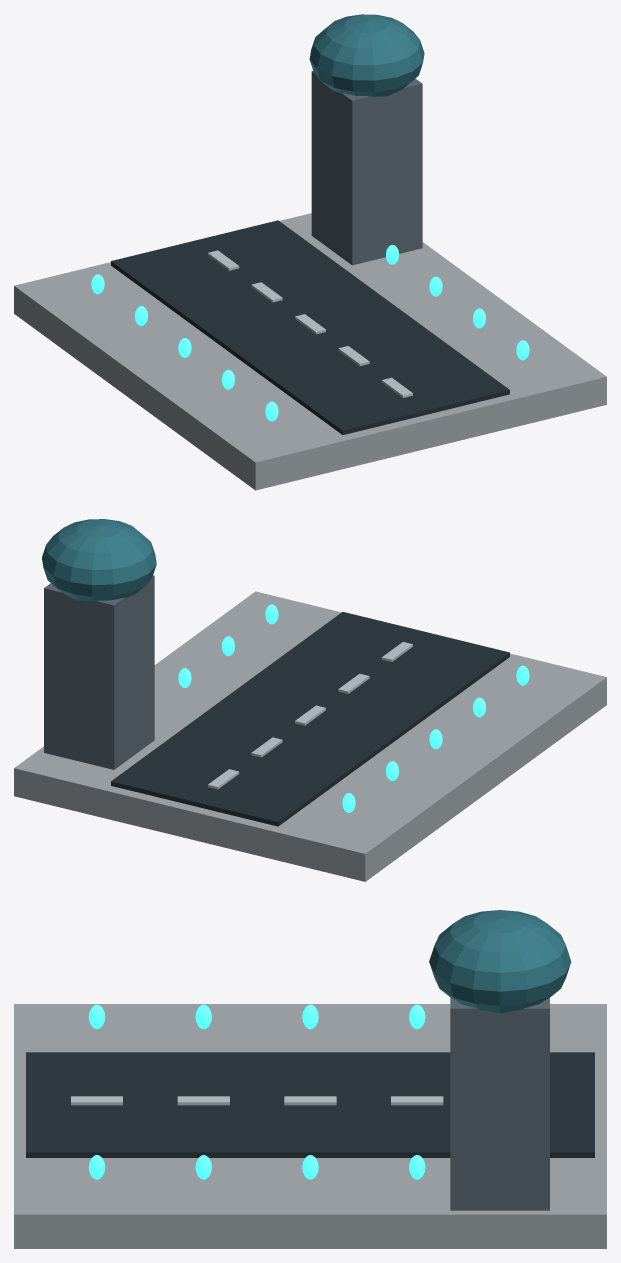
File: airfield.glb
3 renders of one model, top to bottom at view 1: azimuth 30°, elevation 25°; view 2: azimuth 150°, elevation 25°; view 3: azimuth 270°, elevation 25°, orthographic. The views are drawn at different scales.
Parts seen in each view (by area): view 1: runway foundation, runway surface, air control tower, control radar; view 2: runway foundation, runway surface, air control tower, control radar; view 3: runway foundation, runway surface, air control tower, control radar, runway center stripe.002, runway center stripe.001, runway center stripe.003, runway center stripe.
Boxes of the visible parts, x1=… form: runway foundation: x1=14, y1=213, x2=606, y2=490; runway surface: x1=111, y1=220, x2=509, y2=434; air control tower: x1=311, y1=71, x2=422, y2=265; control radar: x1=309, y1=14, x2=424, y2=96; runway foundation: x1=14, y1=591, x2=606, y2=881; runway surface: x1=111, y1=612, x2=509, y2=826; air control tower: x1=44, y1=575, x2=154, y2=769; control radar: x1=42, y1=519, x2=156, y2=601; runway foundation: x1=14, y1=1004, x2=606, y2=1248; runway surface: x1=26, y1=1052, x2=594, y2=1157; air control tower: x1=450, y1=997, x2=549, y2=1210; control radar: x1=429, y1=910, x2=571, y2=1013; runway center stripe.002: x1=284, y1=1096, x2=336, y2=1105; runway center stripe.001: x1=177, y1=1096, x2=229, y2=1105; runway center stripe.003: x1=391, y1=1096, x2=443, y2=1105; runway center stripe: x1=71, y1=1096, x2=122, y2=1105.
Bounding box in the file's own units: 2.15 × 1.42 × 2.5.
